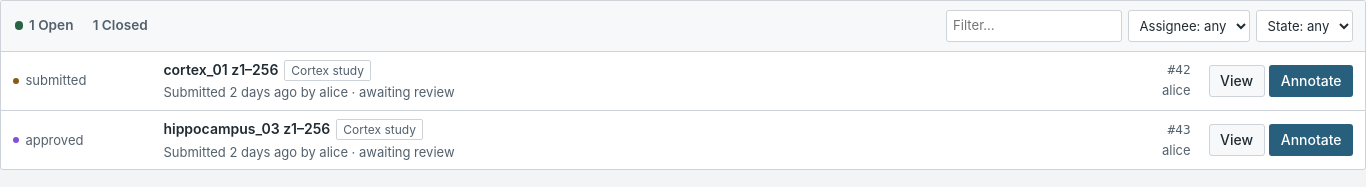
WorkList open/closed strip › counts anything not approved as open, and filters on click
Expected: the button "1 Closed" is shown, [91,10,149,42]
Click the button "1 Open" at (44, 26), box [13,10,75,42]
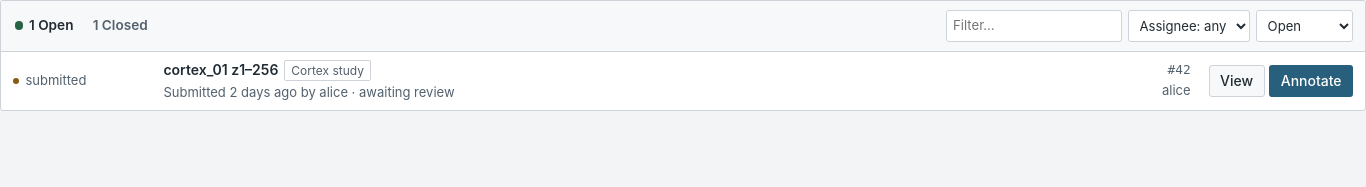
Expected: the link "#42" is shown, [1168,61,1191,80]
Expected: the link "#43" is gone
